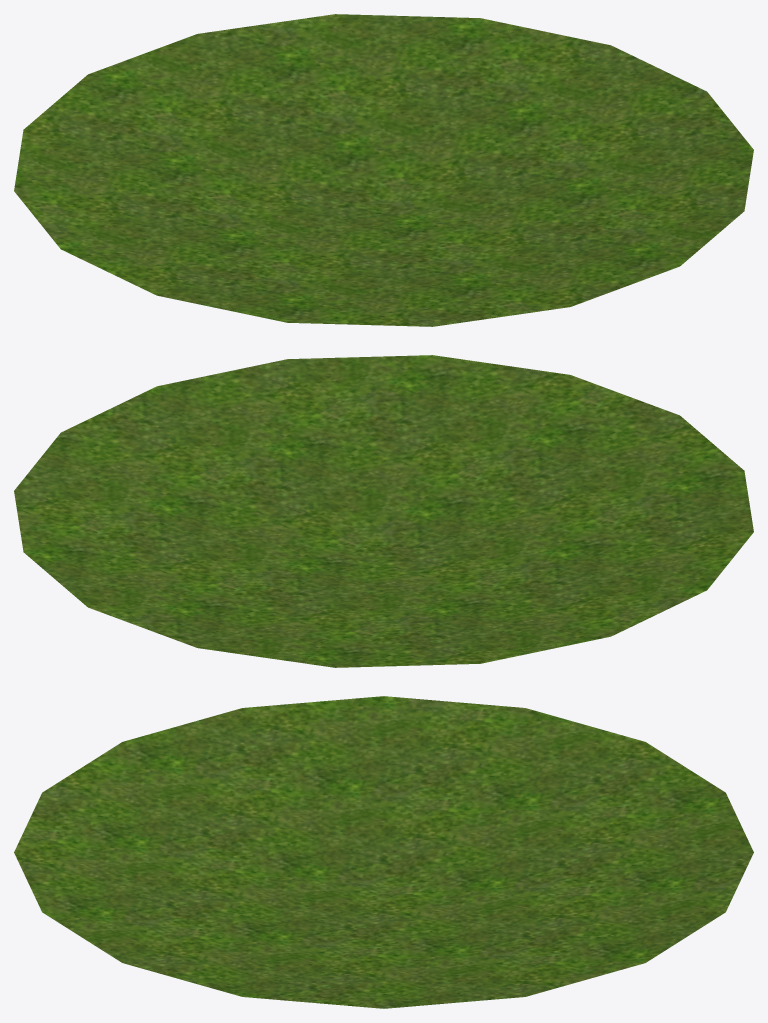
The model's file is skybox_ground.glb.
The picture shows the model from 3 angles, top to bottom: view 1: azimuth 30°, elevation 25°; view 2: azimuth 150°, elevation 25°; view 3: azimuth 270°, elevation 25°; orthographic projection.
Parts seen in each view (by area): view 1: skybox_ground; view 2: skybox_ground; view 3: skybox_ground.
Part boxes in pixels (x1=…): skybox_ground: x1=14, y1=14, x2=753, y2=326; skybox_ground: x1=14, y1=355, x2=753, y2=667; skybox_ground: x1=14, y1=696, x2=753, y2=1008.
Bounding box in the file's own units: 1 × 0.0439 × 1.
Materials: 1 (1 with a texture image).
